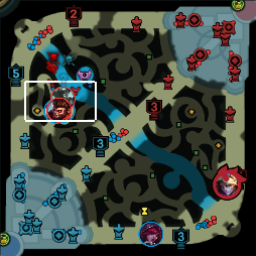ezreal: (215, 170, 239, 198)
monkeyking: (45, 97, 71, 122)
mordekaiser: (51, 86, 74, 110)
xayah: (138, 221, 163, 246)
